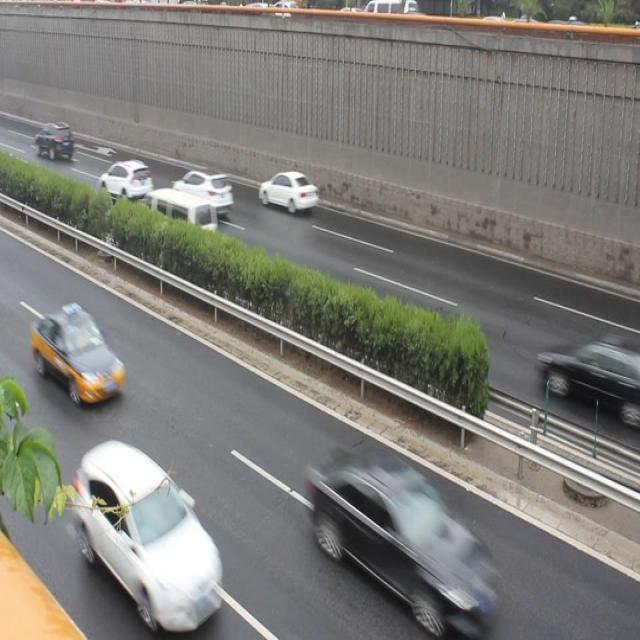car: (306, 453, 496, 621), (75, 444, 222, 613), (29, 300, 129, 400), (538, 330, 640, 420), (175, 164, 235, 219), (256, 165, 316, 217), (97, 156, 152, 205), (34, 119, 74, 164)
truck: (146, 185, 216, 242)
